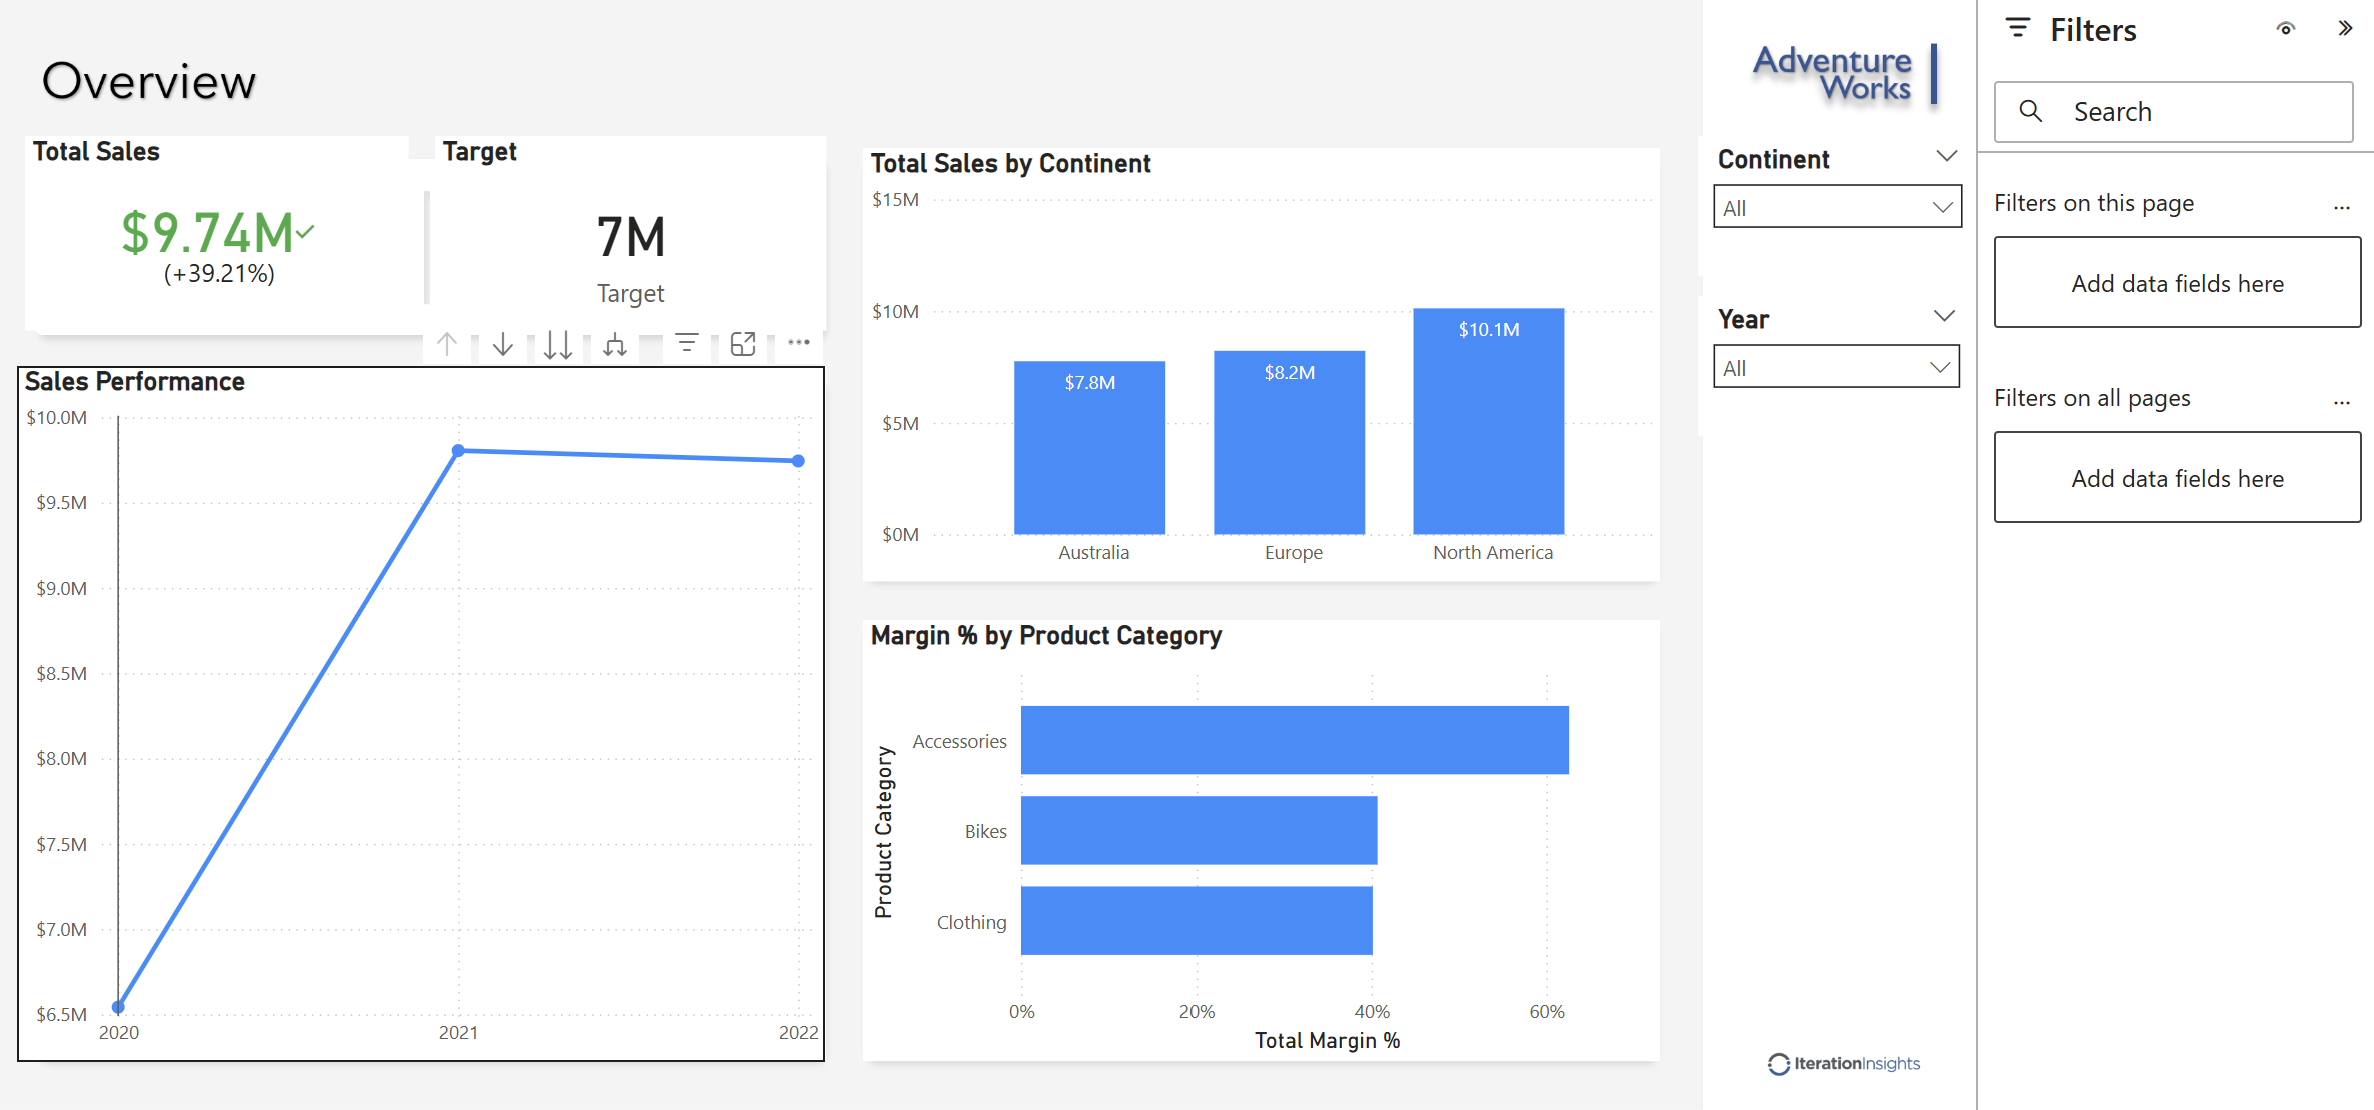

The page's visual inventory and layout, read from the dashboard file:
{"tool":"powerbi","page":{"name":"Overview","canvas":[1280,720],"ordinal":0},"visuals":[{"type":"slicer","title":"Slicer Year","fields":{"Values":["Order Date.Order Date Year"]},"box":[1101.7,196.7,178.3,90],"z":6000},{"type":"slicer","title":"Slicer Continent","fields":{"Values":["Sales Territory.Sales Territory Continent"]},"box":[1101.7,93.3,180,90],"z":6015},{"type":"clusteredBarChart","title":"Margin % by Product Category","fields":{"Category":["Product.Product Hierarchy.Product Category","Product.Product Hierarchy.Product Subcategory"],"Y":["Sales.Total Margin %"]},"box":[565,405,511.7,283.3],"z":6031},{"type":"lineChart","title":"Sales Performance","fields":{"Y":["Sales.Total Sales"],"Category":["Order Date.Order Date Hierarchy.Order Date Year","Order Date.Order Date Hierarchy.Order Date Month","Order Date.Order Date Hierarchy.Order Date"]},"box":[21.7,241.7,520,446.7],"z":6062},{"type":"clusteredColumnChart","title":"Total Sales by Continent","fields":{"Category":["Sales Territory.Sales Territory Continent"],"Y":["Sales.Total Sales"]},"box":[565,101.7,511.7,278.3],"z":6125},{"type":"card","title":"Target","fields":{"Values":["Sales.Target"]},"box":[290,93.3,251.7,125],"z":6250},{"type":"kpi","title":"Total Sales","fields":{"Indicator":["Sales.Total Sales"],"Goal":["Sales.Target"],"TrendLine":["Order Date.Order Date Year"]},"box":[26.7,93.3,246.7,125],"z":6500}]}

Visuals, with their boxes on the page's 1280x720 design canvas (x1, y1, x2, y2). These are canvas units, not pixel positions in the 2374x1110 screenshot, which may show the page scaled, cropped or inside an application window:
"Slicer Year" slicer: 1102,197,1280,287
"Slicer Continent" slicer: 1102,93,1282,183
"Margin % by Product Category" clusteredBarChart: 565,405,1077,688
"Sales Performance" lineChart: 22,242,542,688
"Total Sales by Continent" clusteredColumnChart: 565,102,1077,380
"Target" card: 290,93,542,218
"Total Sales" kpi: 27,93,273,218
